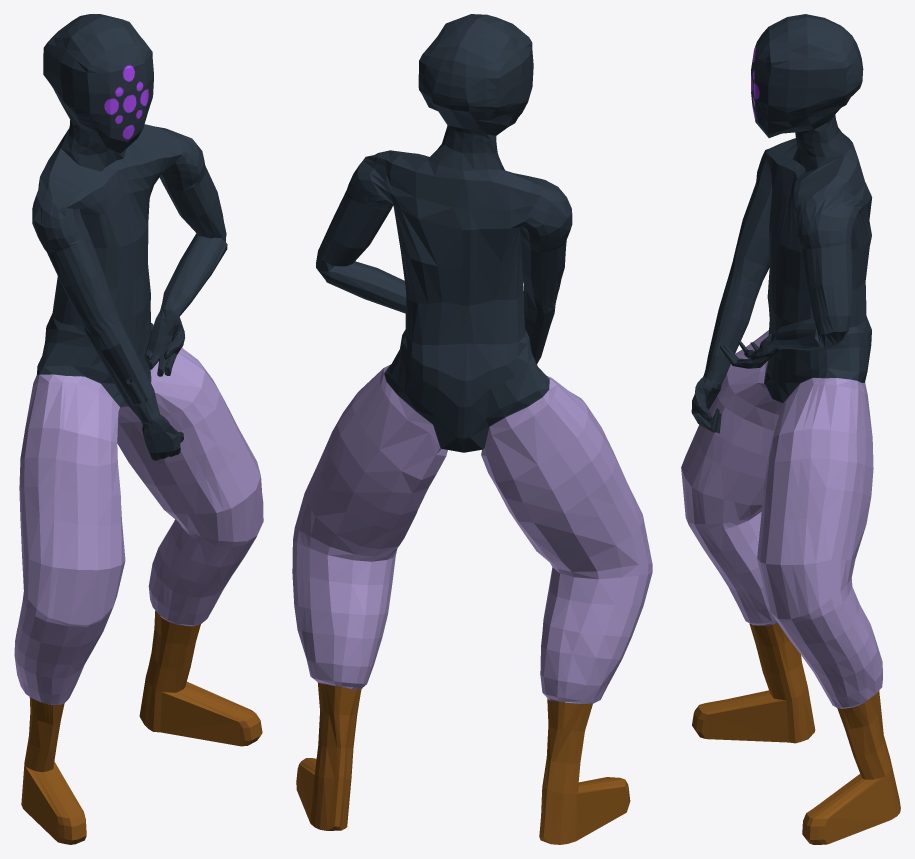
Rendered from Oracle_WL_000014.obj.
3 renders of one model, left to right at view 1: azimuth 30°, elevation 25°; view 2: azimuth 150°, elevation 25°; view 3: azimuth 270°, elevation 25°, orthographic. The views are drawn at different scales.
Visible parts, largest first — view 1: Cube; view 2: Cube; view 3: Cube.
Boxes of the visible parts, bbox=[...] form: Cube: bbox=[14, 14, 263, 844]; Cube: bbox=[292, 14, 652, 844]; Cube: bbox=[681, 14, 900, 844].
Size of the model in its own units: 1.45 by 3.76 by 0.9932.
